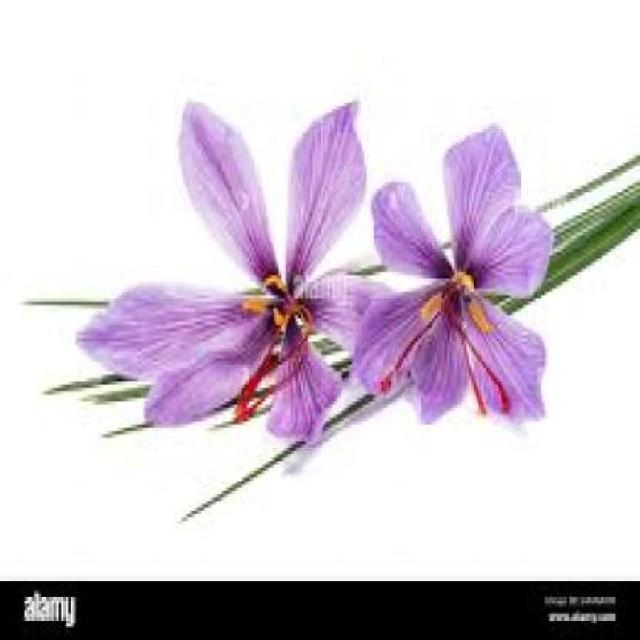Flower: (73, 94, 375, 443), (355, 122, 556, 428)
stigma: (450, 308, 510, 416), (231, 330, 287, 430), (376, 320, 432, 400)
